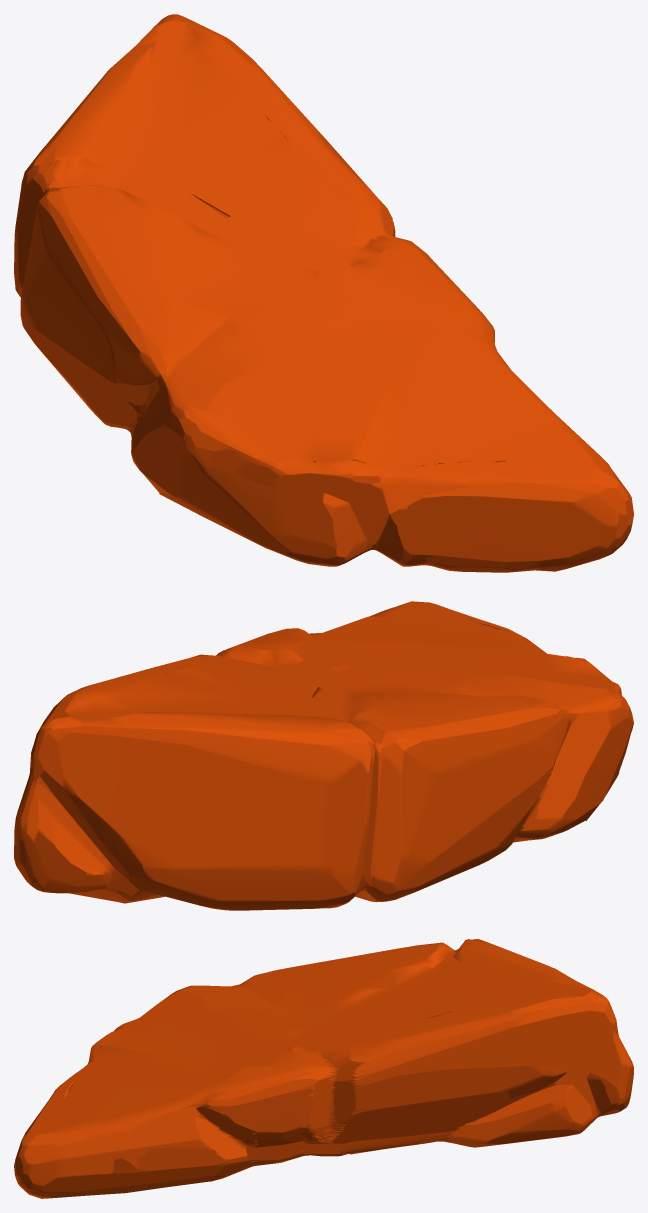
3 renders of one model, top to bottom at view 1: azimuth 30°, elevation 25°; view 2: azimuth 150°, elevation 25°; view 3: azimuth 270°, elevation 25°, orthographic. The views are drawn at different scales.
Parts seen in each view (by area): view 1: Mesh_64_LOD0; view 2: Mesh_64_LOD0; view 3: Mesh_64_LOD0.
Part boxes in pixels (x1,y1,x2,y2): Mesh_64_LOD0: (14,14,633,572); Mesh_64_LOD0: (14,601,633,910); Mesh_64_LOD0: (14,939,633,1198).
Size of what is drawn, in the model's own units: 1422 by 1064 by 3058.
